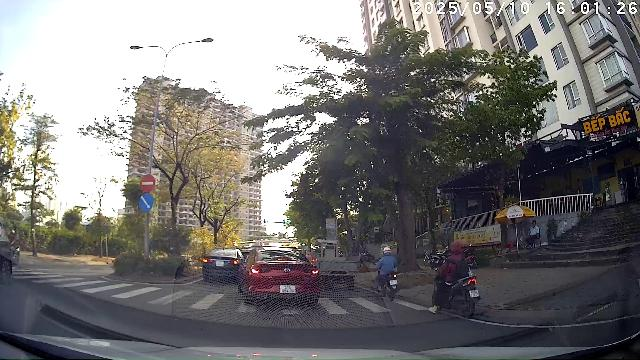102-cam-di-nguoc-chieu: (139, 174, 156, 192)
302a-huong-phai-di-vong-chuong-ngai-vat-1: (139, 193, 154, 212)
